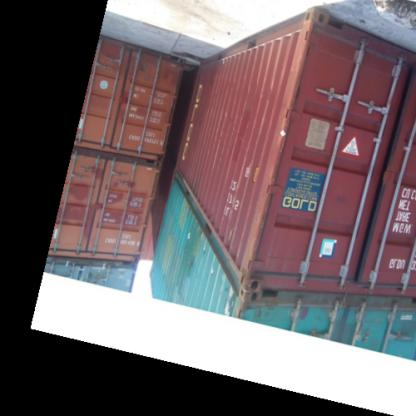Damage: (250, 147, 280, 290)
